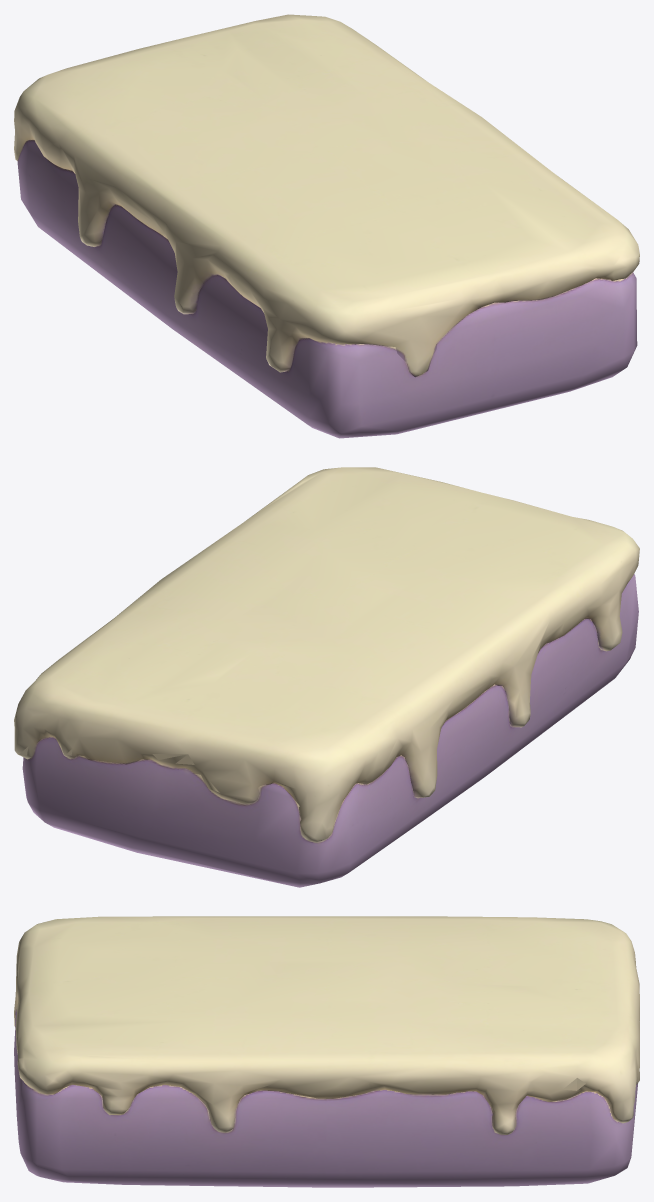
The model's file is PA1Goal.fbx.
3 renders of one model, top to bottom at view 1: azimuth 30°, elevation 25°; view 2: azimuth 150°, elevation 25°; view 3: azimuth 270°, elevation 25°, orthographic. The views are drawn at different scales.
Parts seen in each view (by area): view 1: PA1Goal; view 2: PA1Goal; view 3: PA1Goal.
Part boxes in pixels (box(x1,y1,x2,y2)): PA1Goal: box(14, 14, 639, 438); PA1Goal: box(14, 467, 639, 887); PA1Goal: box(14, 916, 639, 1187).
Bounding box in the file's own units: 10.01 × 4.53 × 16.66.
Materials: 1 (1 with a texture image).
